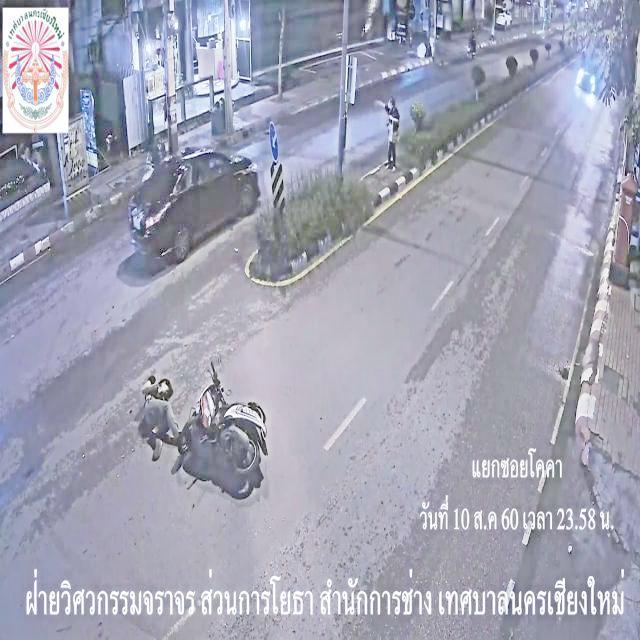Car: (122, 139, 266, 267)
Minor Accident: (174, 366, 272, 486)
Motor: (181, 374, 274, 499)
